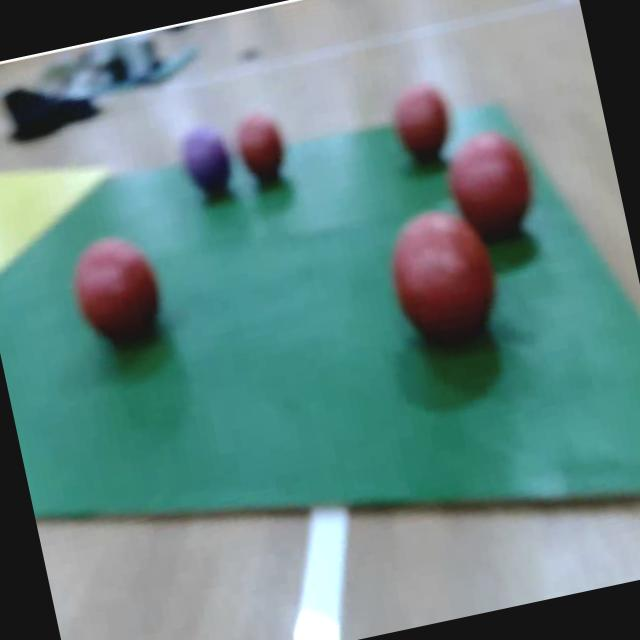purple_ball: (180, 122, 240, 204)
red_ball: (377, 203, 503, 352), (64, 228, 173, 358), (441, 127, 544, 251), (386, 82, 461, 175), (228, 112, 294, 195)
